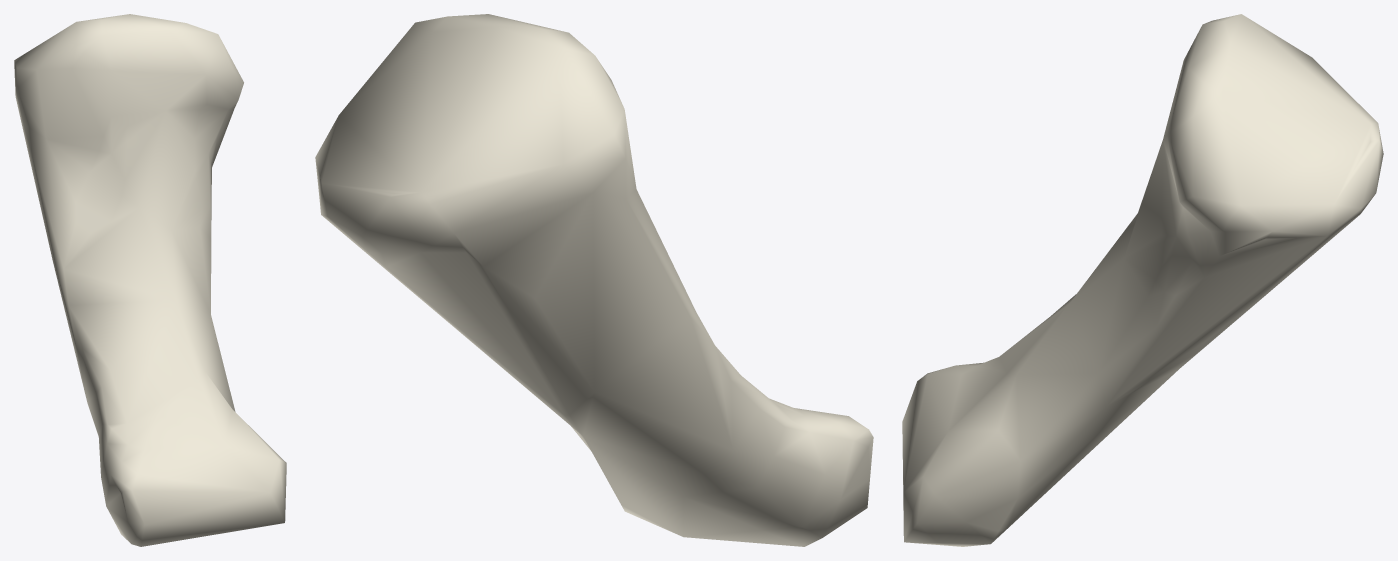
The picture shows the model from 3 angles, left to right: view 1: azimuth 30°, elevation 25°; view 2: azimuth 150°, elevation 25°; view 3: azimuth 270°, elevation 25°; orthographic projection. The views are drawn at different scales.
Visible parts, largest first — view 1: ZA_20da467531b35285; view 2: ZA_20da467531b35285; view 3: ZA_20da467531b35285.
Part boxes in pixels (x1,y1,x2,y2): ZA_20da467531b35285: (14, 14, 286, 546); ZA_20da467531b35285: (315, 14, 873, 546); ZA_20da467531b35285: (902, 14, 1383, 546).
Size of the model in its own units: 0.0121 by 0.0205 by 0.0173.
